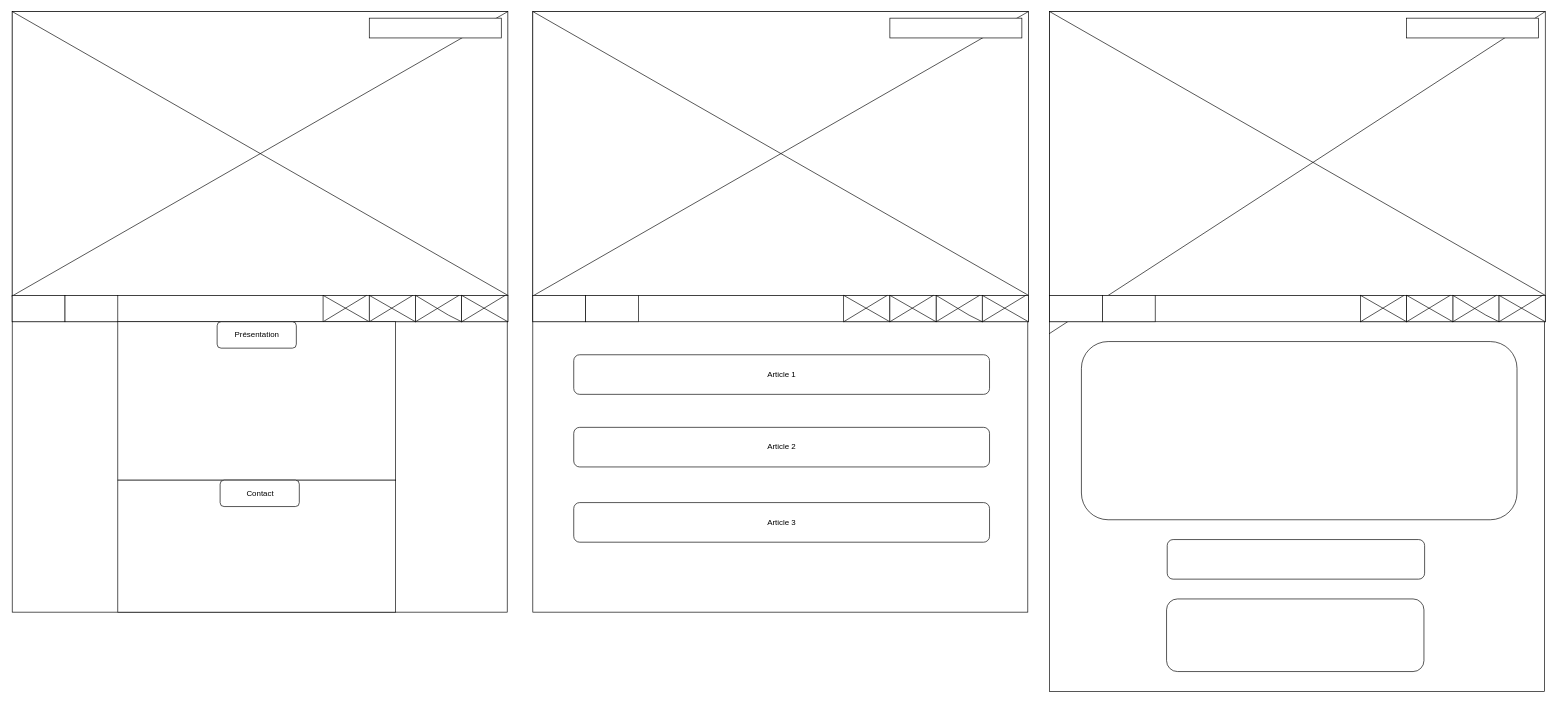
This 1558x703 diagram has some shape labels left out. Each missing label, with the centre of its shape:
"ARTICLE" belongs at point 1299,430.
"Commentaires" belongs at point 1296,559.
"Formulaire de commentaire" belongs at point 1295,635.
